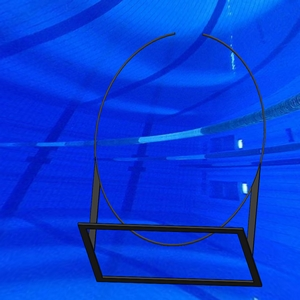circle: (77, 30, 270, 288)
